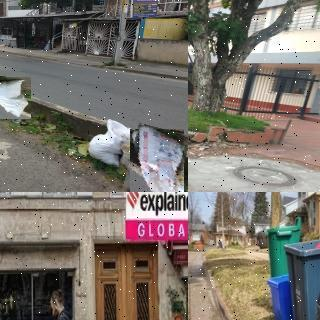Garbage: (126, 126, 187, 192), (87, 117, 127, 167), (0, 76, 31, 119)
